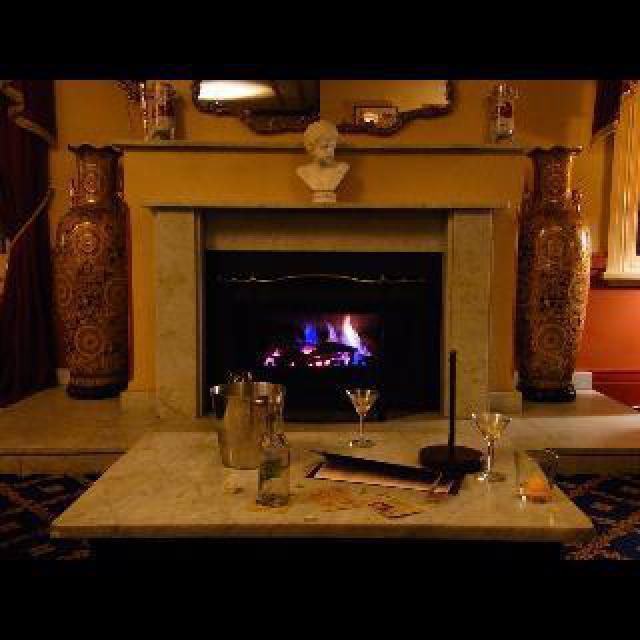Fire: (202, 212, 446, 418)
